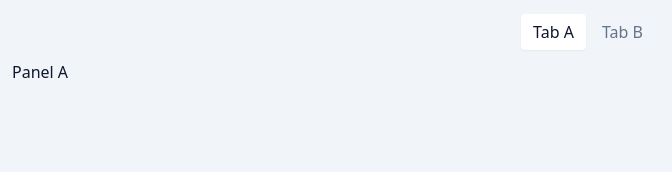
Test: <Tabs> › switches panels when a trigger is clicked
Click the tab "Tab B" at (622, 32), box [590,14,655,50]
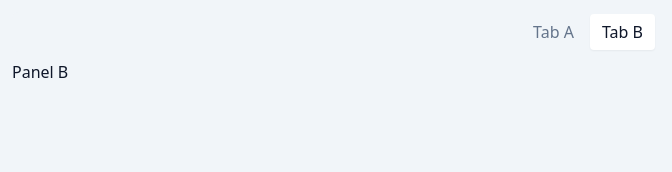
Check: the text "Panel B" is shown, box [12,61,68,83]
Check: the text "Panel A" is gone
